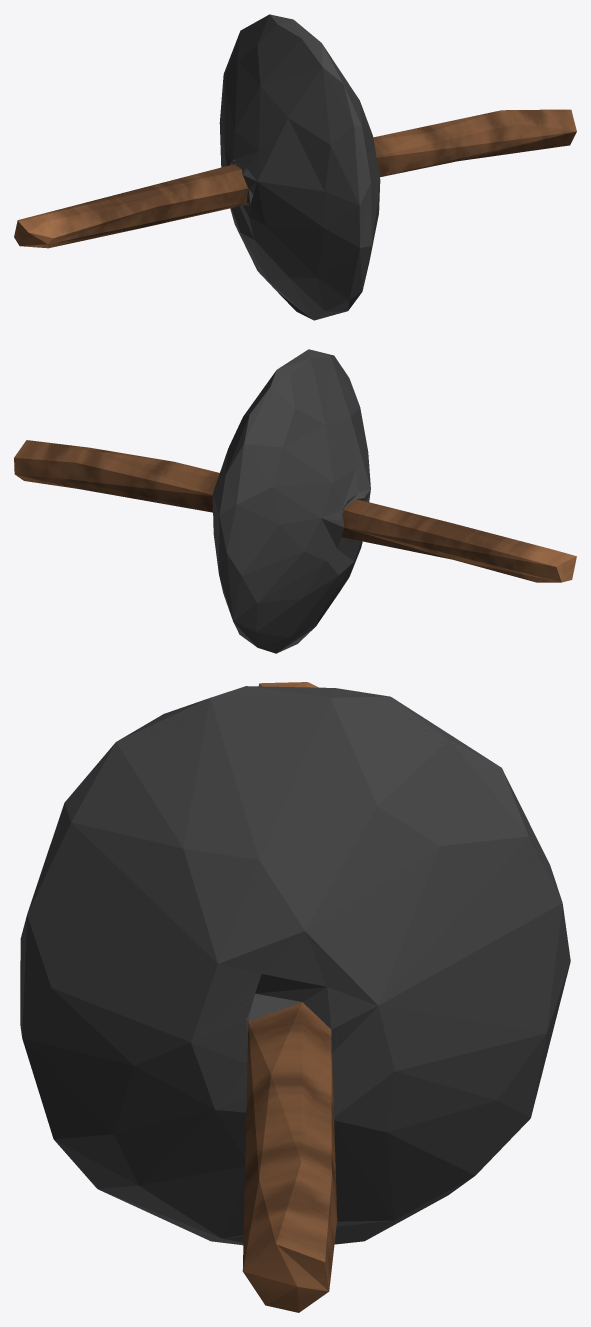
Rendered from yakyeon_handle.fbx.
3 renders of one model, top to bottom at view 1: azimuth 30°, elevation 25°; view 2: azimuth 150°, elevation 25°; view 3: azimuth 270°, elevation 25°, orthographic. The views are drawn at different scales.
Visible parts, largest first — view 1: 손잡이_1; view 2: 손잡이_1; view 3: 손잡이_1.
Boxes of the visible parts, x1,y1,x2,y2 form: 손잡이_1: [14, 14, 576, 320]; 손잡이_1: [14, 349, 576, 653]; 손잡이_1: [20, 682, 570, 1312].
Size of the model in its own units: 18.64 by 9.09 by 8.08.
1 material, 1 textured.
